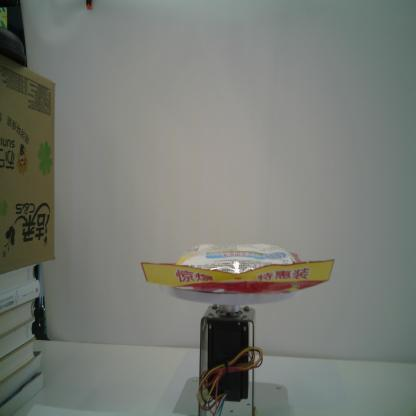Instant Drink: (139, 240, 337, 296)
